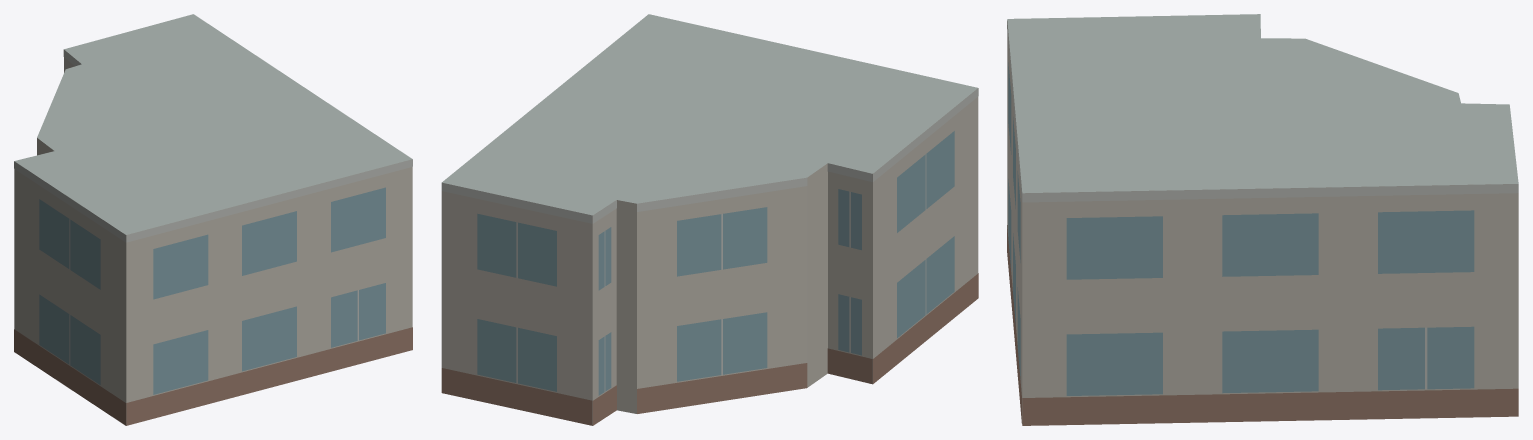
The model's file is survey-upis-32678181.glb.
3 renders of one model, left to right at view 1: azimuth 30°, elevation 25°; view 2: azimuth 150°, elevation 25°; view 3: azimuth 270°, elevation 25°, orthographic. The views are drawn at different scales.
Visible parts, largest first — view 1: survey-upis-32678181.tmp; view 2: survey-upis-32678181.tmp; view 3: survey-upis-32678181.tmp.
Part boxes in pixels (x1=…): survey-upis-32678181.tmp: x1=14, y1=14, x2=412, y2=425; survey-upis-32678181.tmp: x1=441, y1=14, x2=978, y2=425; survey-upis-32678181.tmp: x1=1007, y1=14, x2=1518, y2=425.
Bounding box in the file's own units: 10.08 × 6.1 × 12.16.
